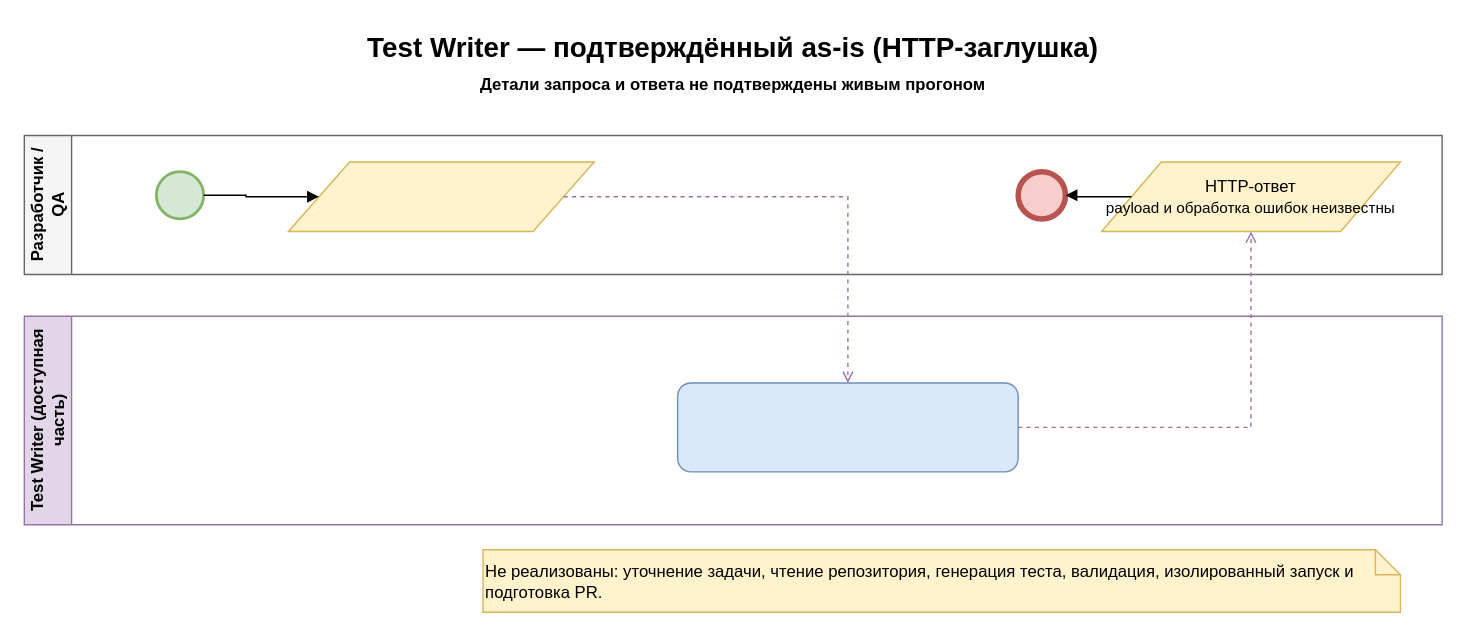
Some shapes in this 1466 by 637 pixel diagram are drawn without their labels. Each missing label, with the centre of its shape:
HTTP-запрос контракт в доступных материалах не установлен: the point at 440,196
Обработка HTTP-заглушкой бизнес-логика не подтверждена: the point at 847,427
